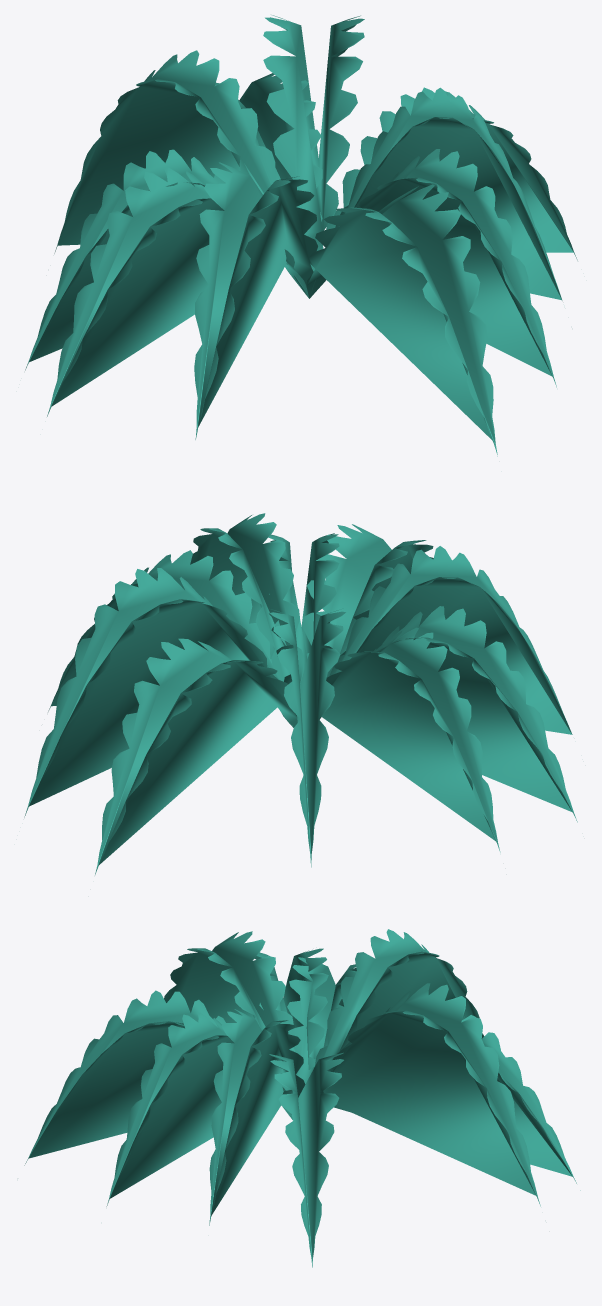
The model's file is GROVE_FERN.glb.
3 renders of one model, top to bottom at view 1: azimuth 30°, elevation 25°; view 2: azimuth 150°, elevation 25°; view 3: azimuth 270°, elevation 25°, orthographic. The views are drawn at different scales.
Visible parts, largest first — view 1: fronds; view 2: fronds; view 3: fronds.
Boxes of the visible parts, x1,y1,x2,y2 form: fronds: [25, 15, 577, 456]; fronds: [24, 513, 577, 874]; fronds: [24, 929, 580, 1267].
Bounding box in the file's own units: 5.43 × 2.39 × 5.79.
